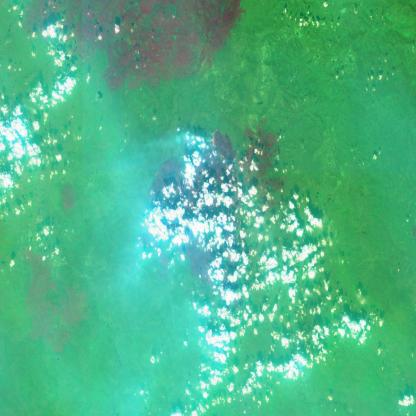fire: (195, 127, 226, 161)
